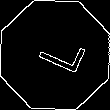L_NW: (26, 30, 84, 80)
